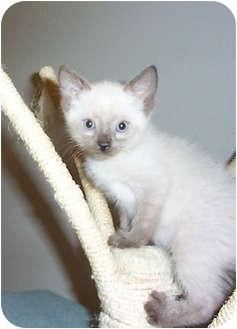siamese: (49, 60, 166, 171)
